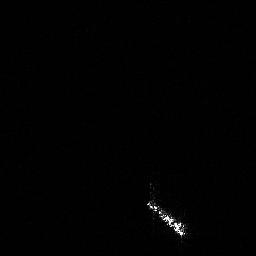ship: (143, 196, 190, 238)
